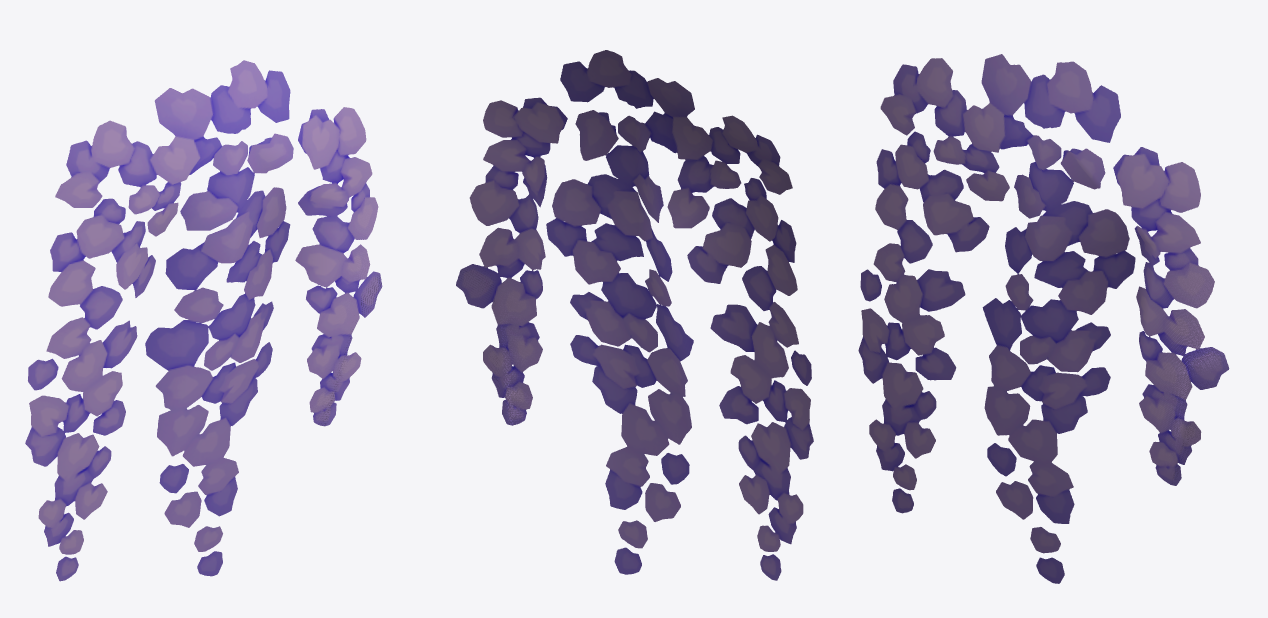
File: SM_Env_Flowers_Clump_03.fbx
3 renders of one model, left to right at view 1: azimuth 30°, elevation 25°; view 2: azimuth 150°, elevation 25°; view 3: azimuth 330°, elevation 25°, orthographic. The views are drawn at different scales.
Parts seen in each view (by area): view 1: SM_Env_Flowers_Clump_03; view 2: SM_Env_Flowers_Clump_03; view 3: SM_Env_Flowers_Clump_03.
Part boxes in pixels (<box>): SM_Env_Flowers_Clump_03: <box>25,60,382,581</box>; SM_Env_Flowers_Clump_03: <box>456,50,813,580</box>; SM_Env_Flowers_Clump_03: <box>858,54,1229,583</box>.
Size of the model in its own units: 82.7 by 117 by 6.76.
